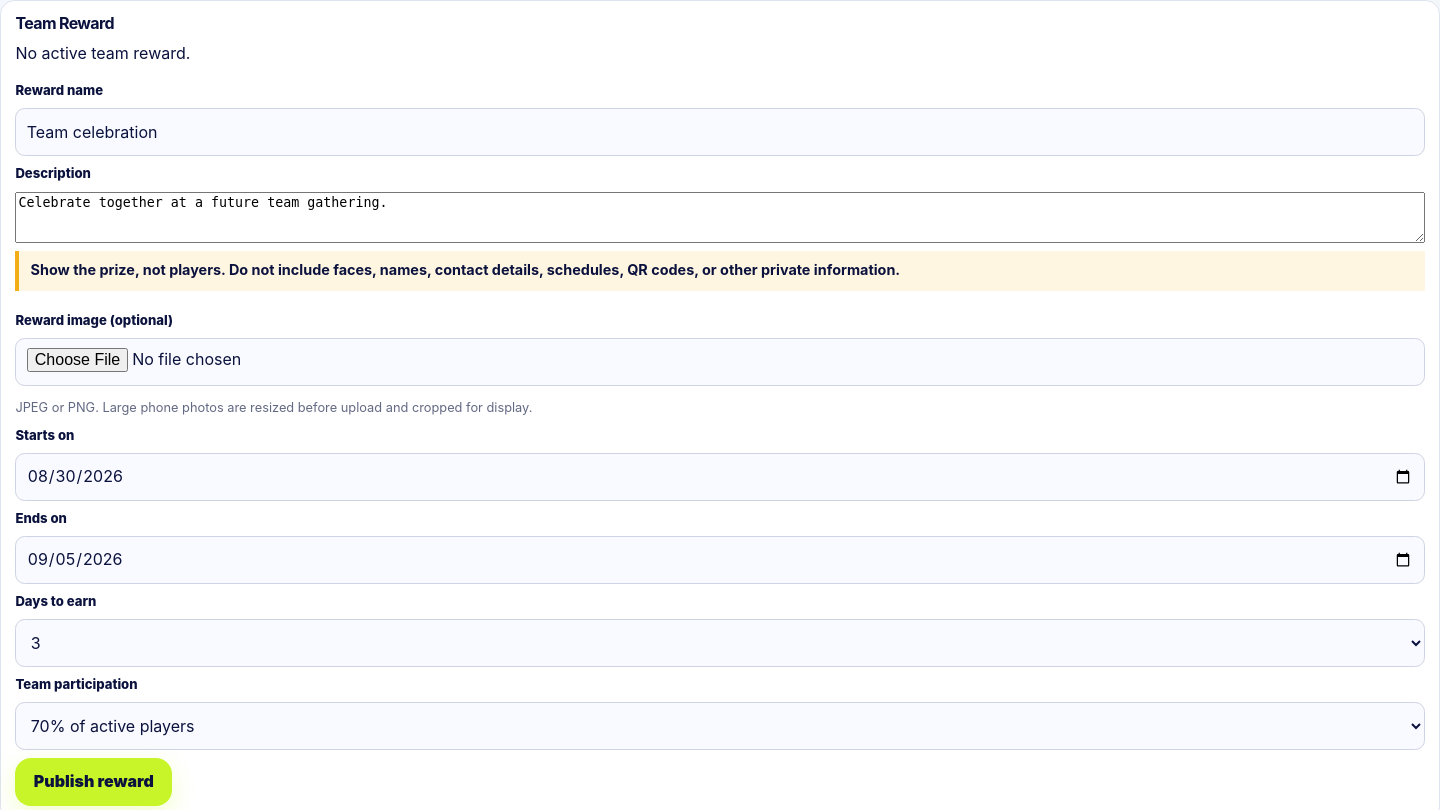
Test: team reward panel › identifies and focuses a missing required date
The width and height of the screenshot is (1440, 810).
Clear the date field labelled "Starts on" at {"x": 720, "y": 477}, box [15,453,1425,501]
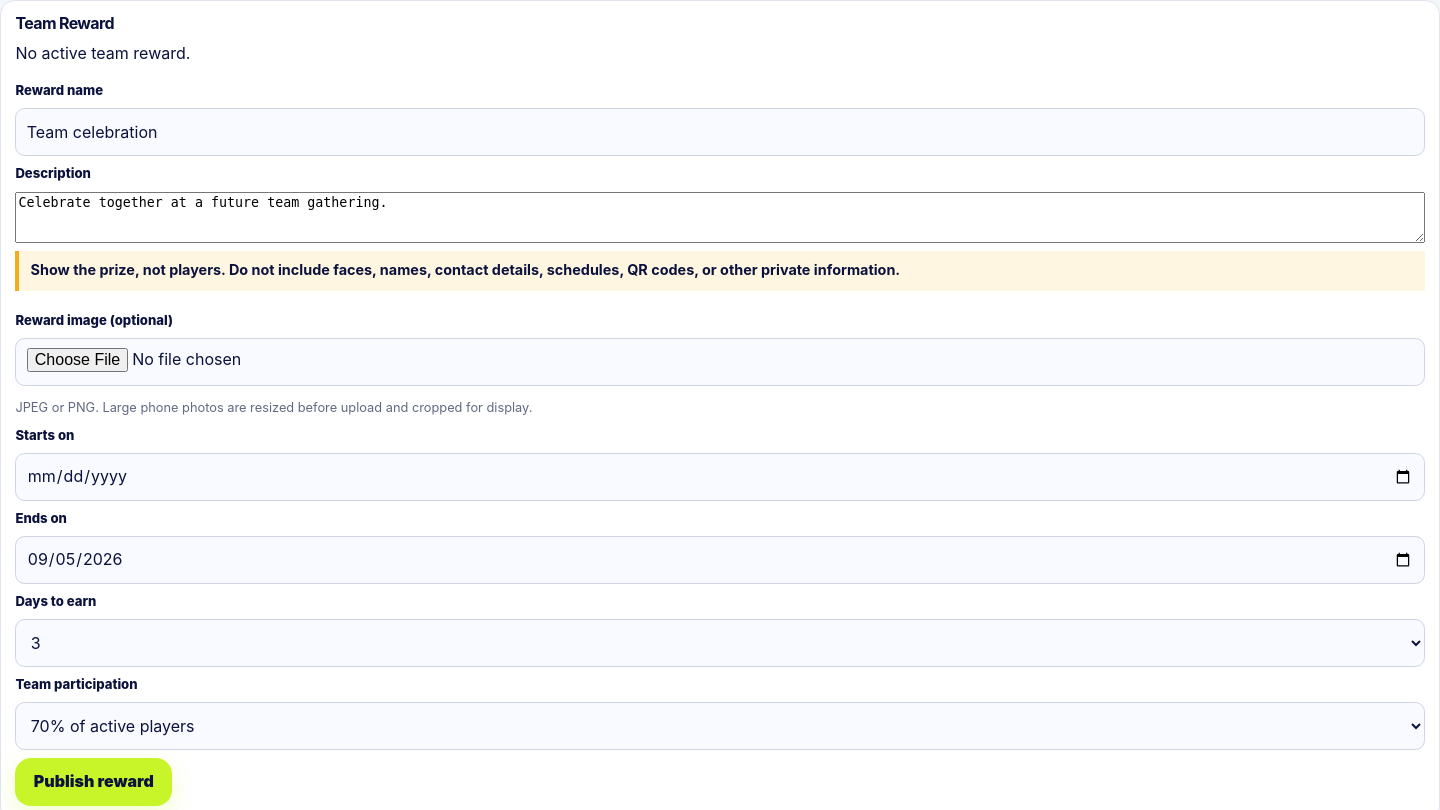
Click the button "Publish reward" at {"x": 94, "y": 782}, box [15,758,172,806]
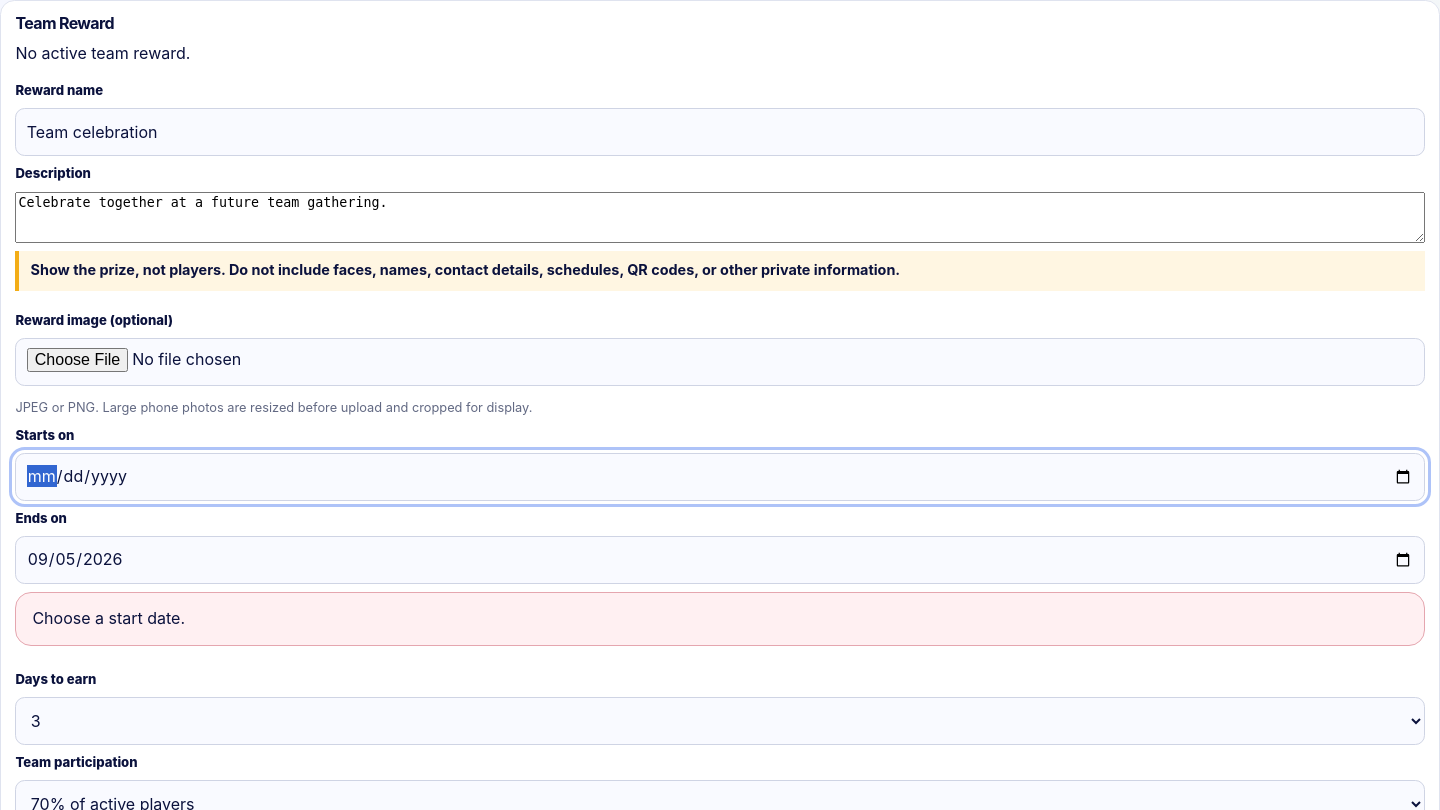
Expected: the message reads "Choose a start date.", [32,608,185,628]
